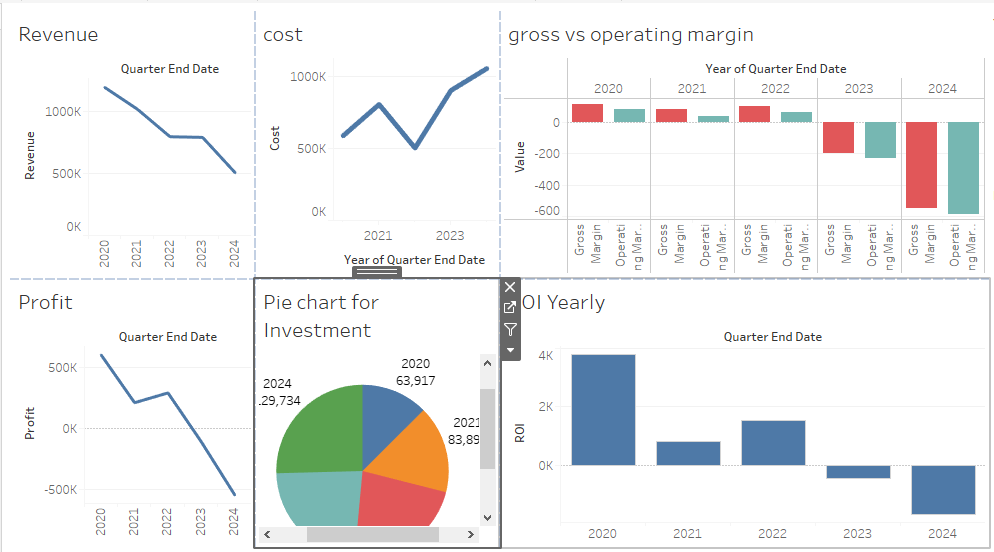

Layout of this report page (visuals, bound fields, positions):
{"tool":"tableau","page":{"name":"Dashboard 1","canvas":[1000,1000],"units":"permille","ordinal":0},"visuals":[{"type":"worksheet","title":"Revenue","mark":"Automatic","rows":["Revenue"],"cols":["Quarter End Date"],"box":[6.9,14.5,211.9,485.5]},{"type":"worksheet","title":"cost","mark":"Automatic","rows":["Cost"],"cols":["Quarter End Date"],"box":[218.8,14.5,211.9,485.5]},{"type":"worksheet","title":"gross vs operating margin","mark":"Bar","cols":["Quarter End Date"],"box":[430.7,14.5,423.8,485.5]},{"type":"legend","title":"Pie chart for Investment ","param":"[federated.0qfy9gd0qw6bof183neqs0khhyw2].[yr:Quarter End Date:ok]","box":[854.5,14.5,138.5,228.3]},{"type":"legend","title":"Pie chart for Investment ","param":"[federated.0qfy9gd0qw6bof183neqs0khhyw2].[sum:Investment:qk]","box":[854.5,242.8,138.5,83.3]},{"type":"legend","title":"gross vs operating margin","param":"[federated.0qfy9gd0qw6bof183neqs0khhyw2].[:Measure Names]","box":[854.5,326.1,138.5,119.6]},{"type":"worksheet","title":"Profit","mark":"Automatic","rows":["Profit"],"cols":["Quarter End Date"],"box":[6.9,500,211.9,485.5]},{"type":"worksheet","title":"Pie chart for Investment ","mark":"Pie","box":[218.8,500,211.9,485.5]},{"type":"worksheet","title":"ROI Yearly","mark":"Bar","rows":["ROI"],"cols":["Quarter End Date"],"box":[430.7,500,423.8,485.5]}]}

Visuals, with their boxes on the dashboard's canvas, which has no fixed pixel size, in thousandths of its width and height (x1, y1, x2, y2). These are canvas units, not pixel positions in the 994x552 screenshot, which may show the page scaled, cropped or inside an application window:
"Revenue" worksheet: x1=7 y1=14 x2=219 y2=500
"cost" worksheet: x1=219 y1=14 x2=431 y2=500
"gross vs operating margin" worksheet (Bar marks): x1=431 y1=14 x2=854 y2=500
"Pie chart for Investment " legend: x1=854 y1=14 x2=993 y2=243
"Pie chart for Investment " legend: x1=854 y1=243 x2=993 y2=326
"gross vs operating margin" legend: x1=854 y1=326 x2=993 y2=446
"Profit" worksheet: x1=7 y1=500 x2=219 y2=986
"Pie chart for Investment " worksheet (Pie marks): x1=219 y1=500 x2=431 y2=986
"ROI Yearly" worksheet (Bar marks): x1=431 y1=500 x2=854 y2=986
